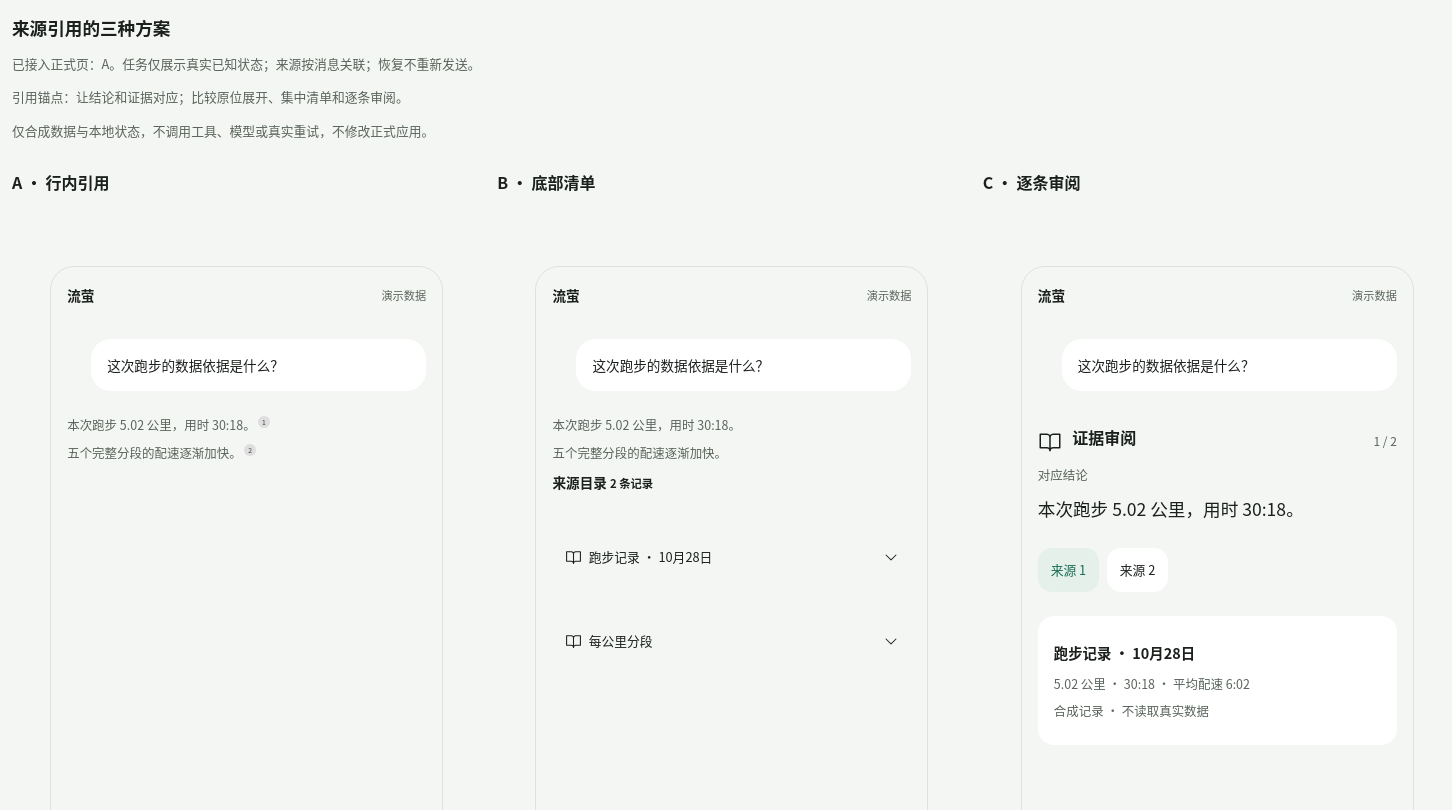
三种来源入口都能查看对应合成记录
Click the button named "查看来源 1": (264, 422) [258,416,270,428]
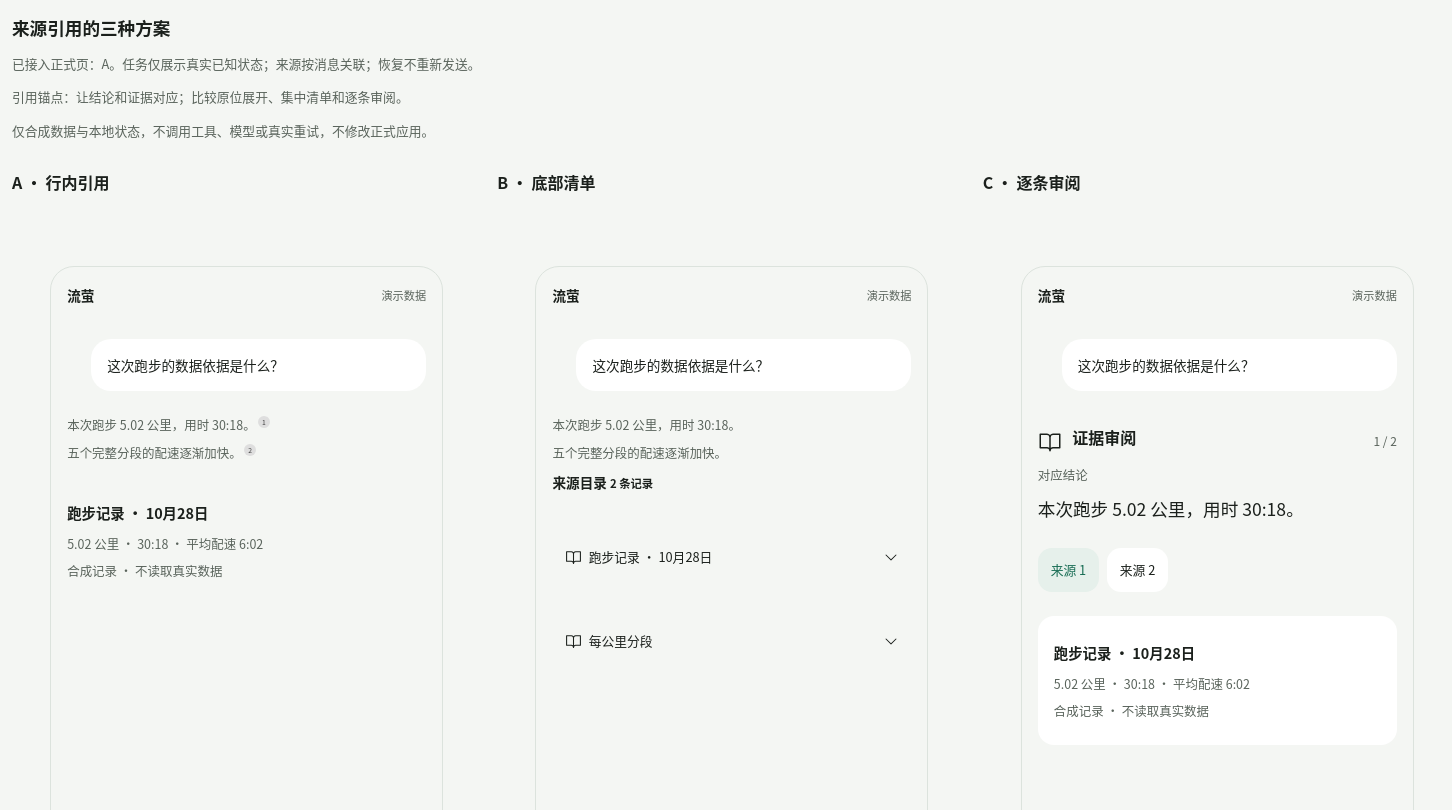
Expected: the element named "来源内容" shows "5.02", [67,535,263,553]
Click the button "每公里分段": (621, 641) [552,603,912,679]
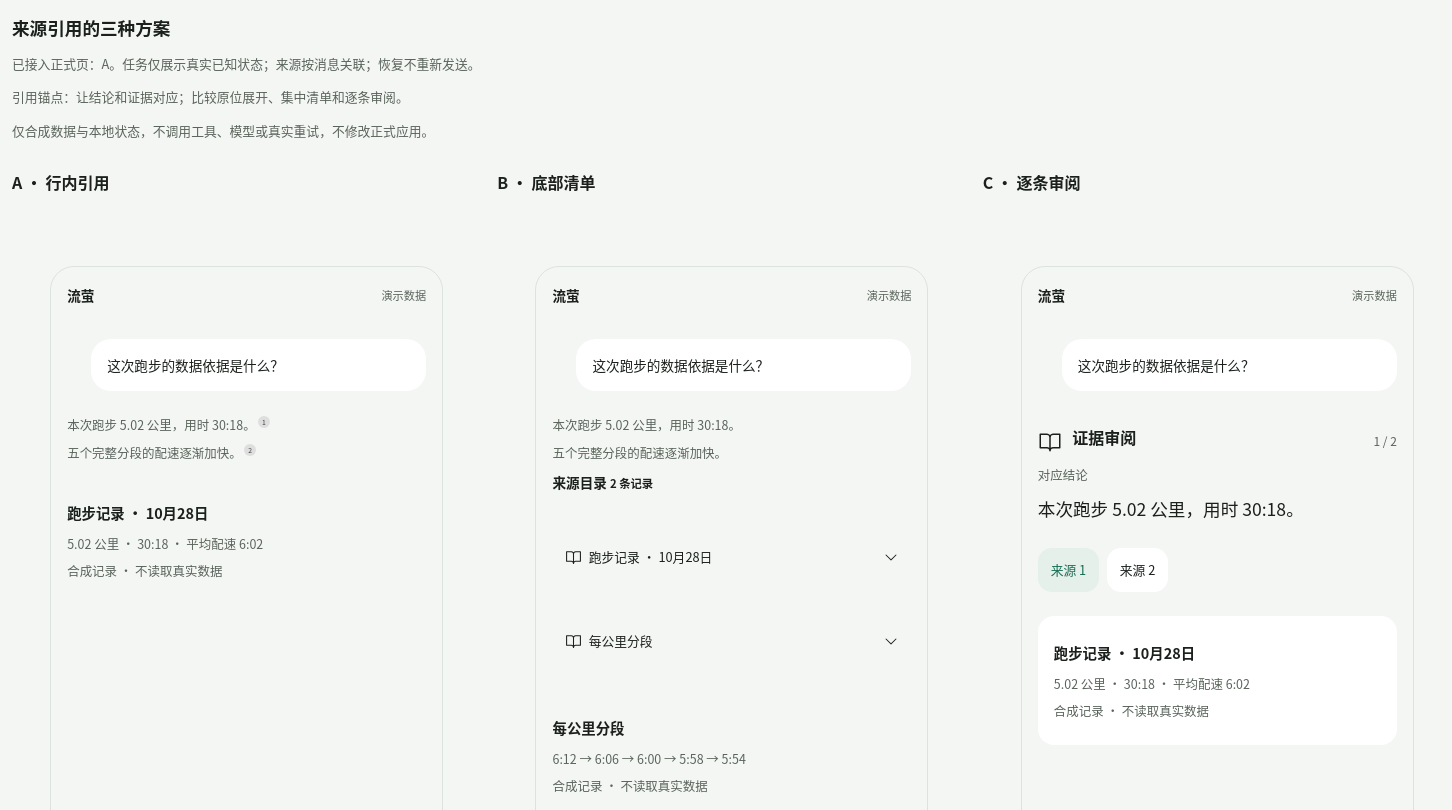
Expected: the element named "来源内容" shows "5:54", [552,750,746,768]
Click the button "来源 2": (1138, 570) [1107,548,1168,592]
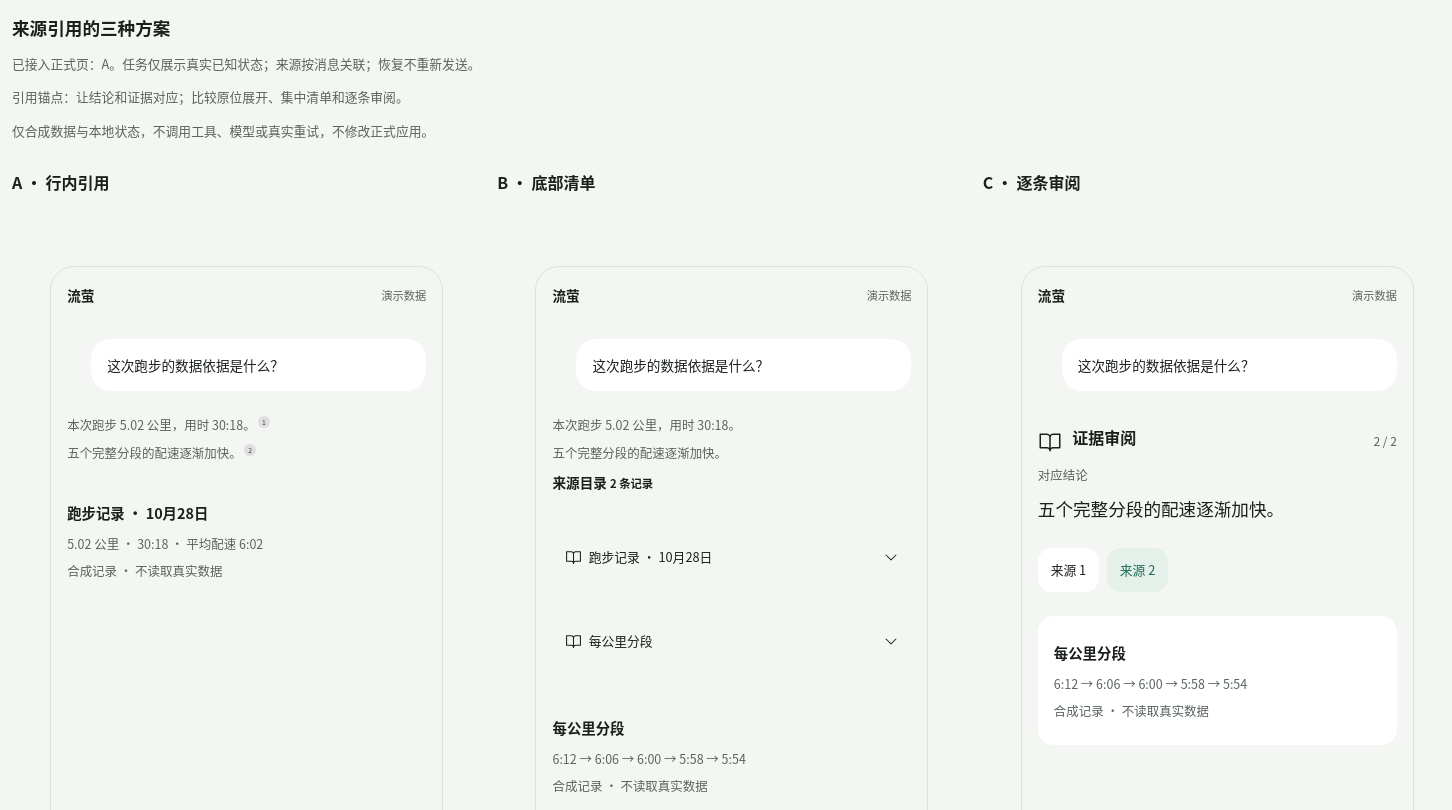
Expected: the element named "来源内容" shows "5:54", [1054,675,1247,693]
